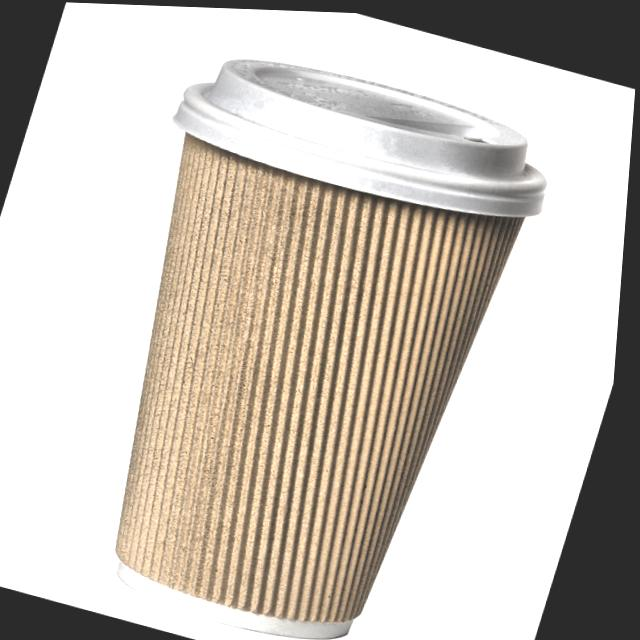Cup: (34, 19, 577, 640)
